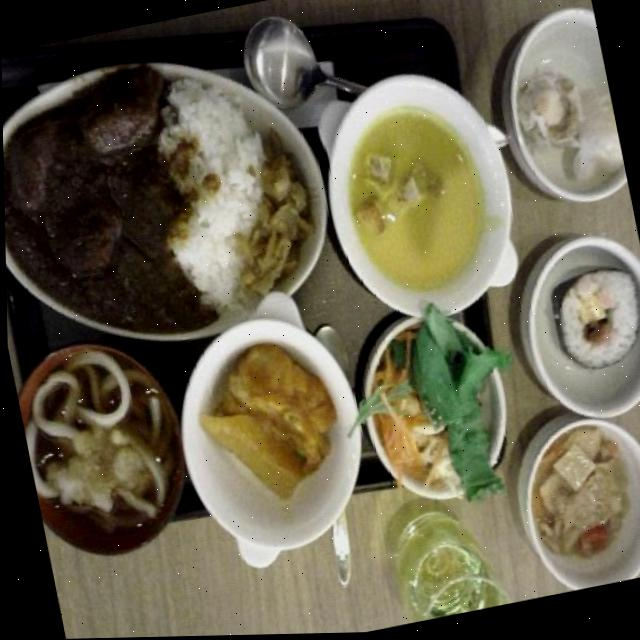汤锅炖物: (294, 57, 534, 337)
牛肉菜式: (0, 21, 358, 377)
蔬菜料理: (344, 292, 530, 513)
面条主食: (7, 323, 198, 577)
